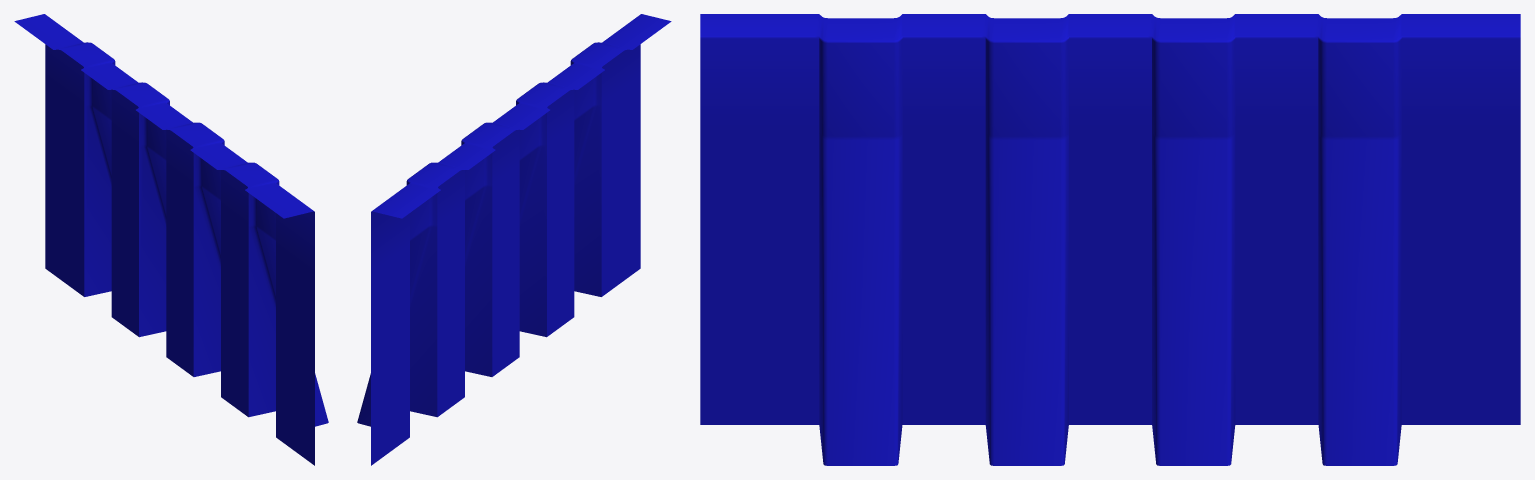
The model's file is Boundary Wall 1.FBX.
3 renders of one model, left to right at view 1: azimuth 30°, elevation 25°; view 2: azimuth 150°, elevation 25°; view 3: azimuth 270°, elevation 25°, orthographic. The views are drawn at different scales.
Parts seen in each view (by area): view 1: Boundary 1; view 2: Boundary 1; view 3: Boundary 1.
Part boxes in pixels (<box>): Boundary 1: <box>14,14,328,465</box>; Boundary 1: <box>357,14,671,465</box>; Boundary 1: <box>700,14,1520,465</box>.
Bounding box in the file's own units: 71.02 × 200 × 384.
